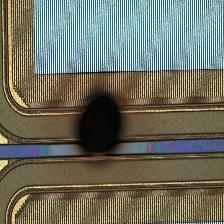PARTICLE: (71, 84, 129, 163)
